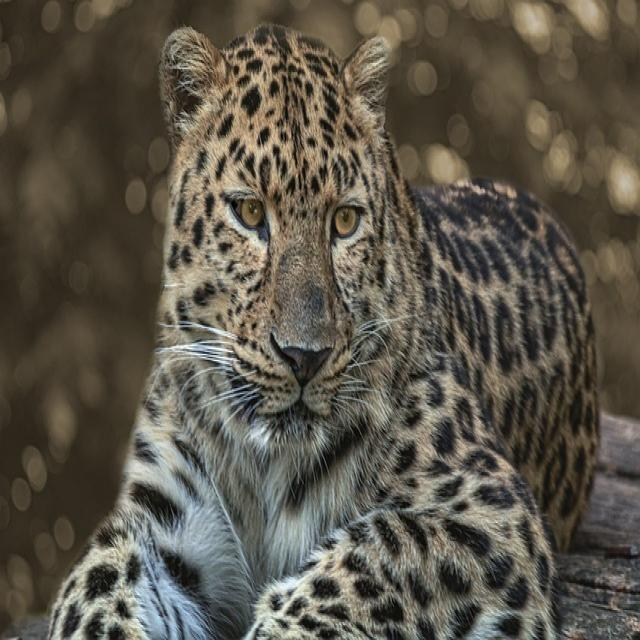Carnivorous: (45, 22, 602, 640)
